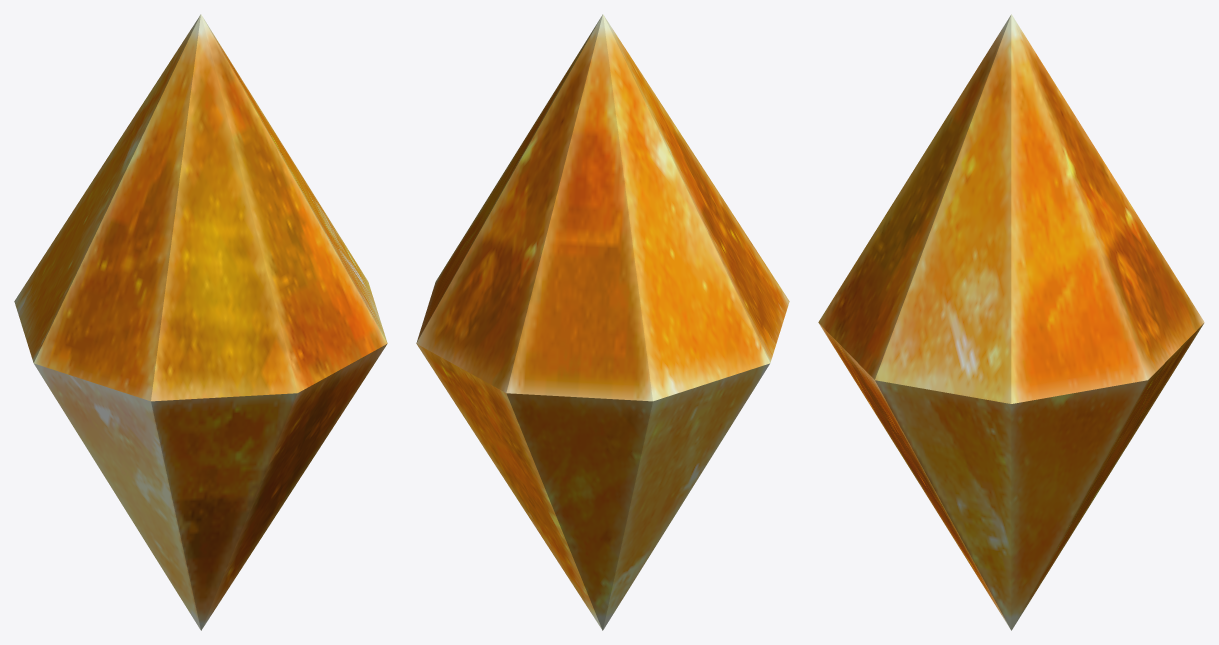
3 views of the same model, side by side, from view 1: azimuth 30°, elevation 25°; view 2: azimuth 150°, elevation 25°; view 3: azimuth 270°, elevation 25° (orthographic).
Parts seen in each view (by area): view 1: ct_ma15-col; view 2: ct_ma15-col; view 3: ct_ma15-col.
Part boxes in pixels (x1=…): ct_ma15-col: x1=14, y1=14, x2=387, y2=630; ct_ma15-col: x1=416, y1=14, x2=789, y2=630; ct_ma15-col: x1=818, y1=14, x2=1204, y2=630.
Bounding box in the file's own units: 0.1417 × 0.2497 × 0.1417.
Materials: 1 (1 with a texture image).
